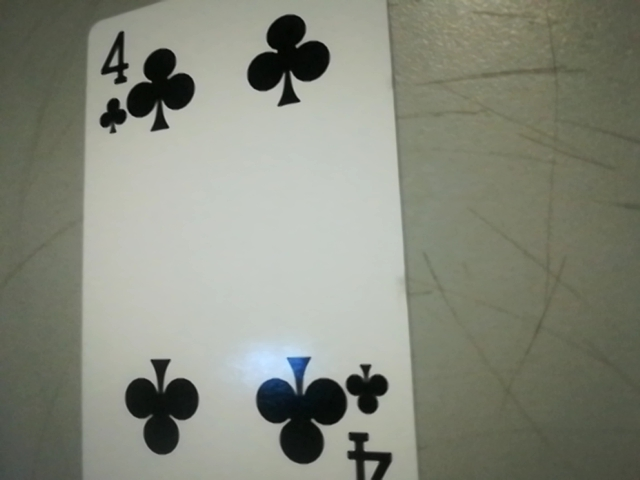mh 4: (332, 354, 412, 480)
